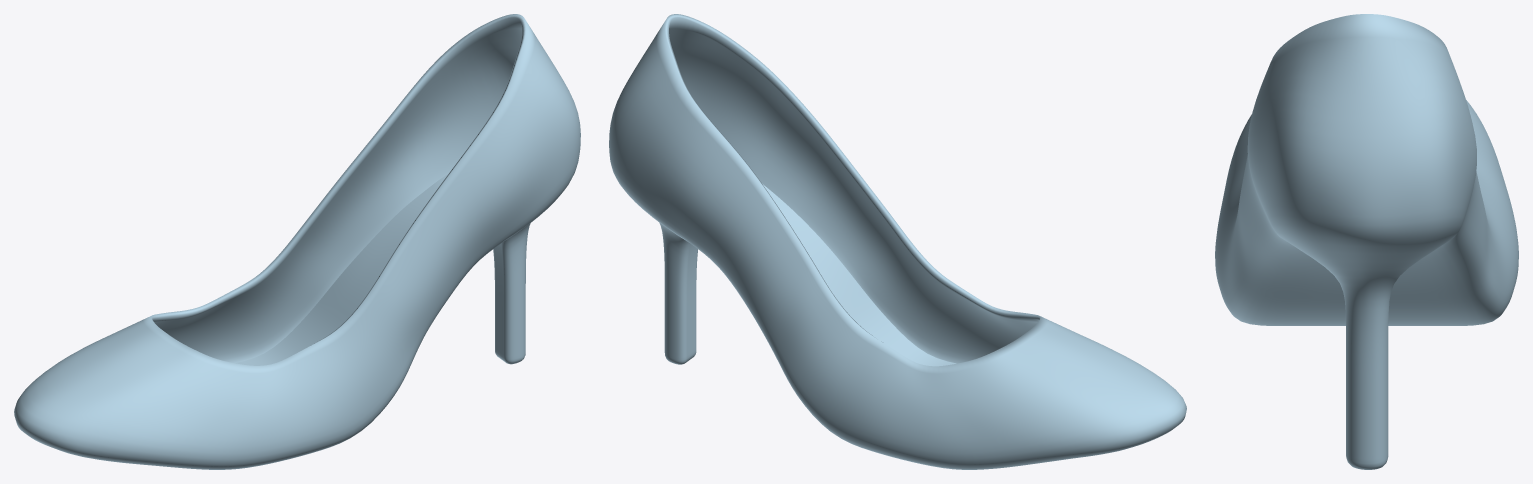
Rendered from Glass slipper.fbx.
The picture shows the model from 3 angles, left to right: view 1: azimuth 30°, elevation 25°; view 2: azimuth 150°, elevation 25°; view 3: azimuth 270°, elevation 25°; orthographic projection. The views are drawn at different scales.
Parts seen in each view (by area): view 1: Final shoe; view 2: Final shoe; view 3: Final shoe.
Boxes of the visible parts, x1,y1,x2,y2 form: Final shoe: [14, 14, 580, 469]; Final shoe: [609, 14, 1186, 469]; Final shoe: [1215, 14, 1518, 469].
Bounding box in the file's own units: 10.24 × 6.01 × 3.61.
